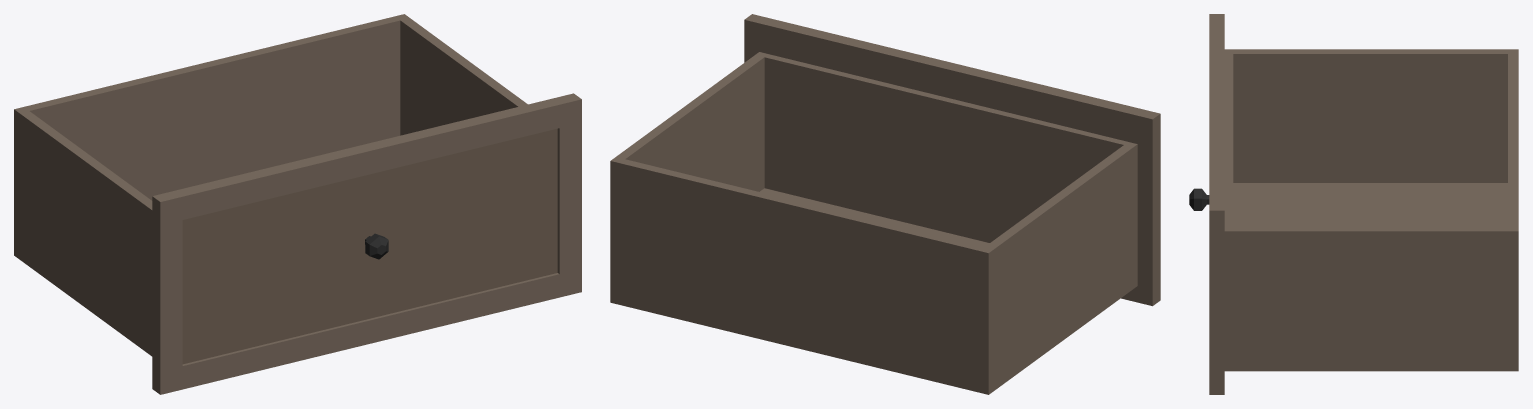
Rendered from TV_Table2_C3_02.fbx.
The picture shows the model from 3 angles, left to right: view 1: azimuth 30°, elevation 25°; view 2: azimuth 150°, elevation 25°; view 3: azimuth 270°, elevation 25°; orthographic projection. The views are drawn at different scales.
Visible parts, largest first — view 1: TV_Table2_C3_02; view 2: TV_Table2_C3_02; view 3: TV_Table2_C3_02.
Part boxes in pixels (box(x1,y1,x2,y2)): TV_Table2_C3_02: box(14, 14, 581, 394); TV_Table2_C3_02: box(610, 14, 1160, 394); TV_Table2_C3_02: box(1189, 14, 1518, 394).
Bounding box in the file's own units: 59.97 × 26.22 × 42.47.
